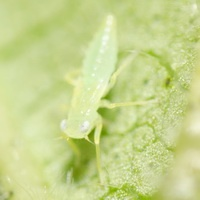insect: (61, 14, 159, 183)
